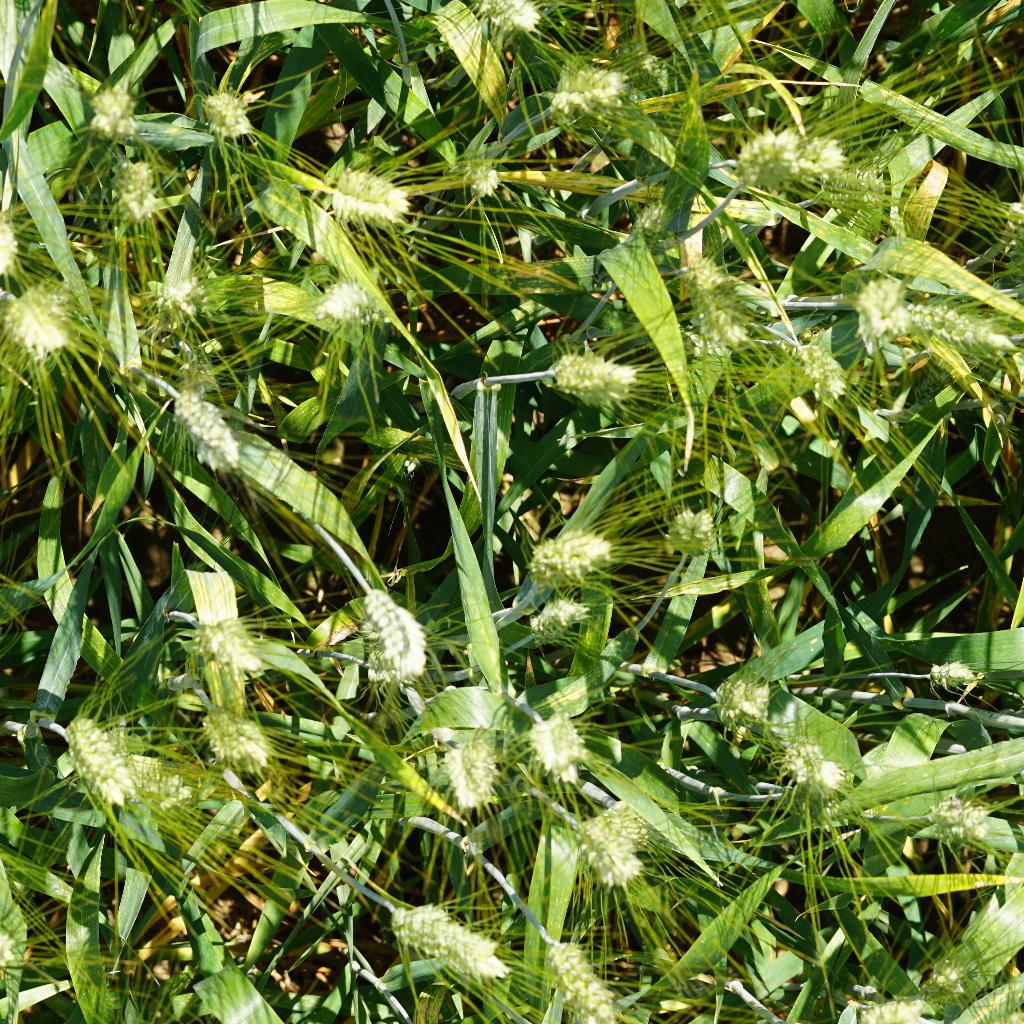0-0: (359, 886, 511, 993), (664, 249, 763, 351), (538, 332, 653, 416), (355, 575, 438, 690), (59, 695, 142, 806), (161, 372, 251, 470), (557, 808, 653, 894), (190, 616, 272, 710), (725, 118, 813, 204), (544, 934, 627, 1024), (817, 137, 901, 218), (765, 727, 854, 802), (204, 707, 303, 774), (911, 301, 1015, 363), (841, 258, 916, 343), (519, 520, 616, 585), (303, 268, 389, 340), (518, 698, 585, 787), (548, 51, 627, 126), (313, 139, 387, 217), (512, 586, 597, 649), (0, 276, 70, 352), (916, 785, 1008, 841), (661, 492, 728, 565), (440, 728, 496, 815), (189, 81, 256, 152), (703, 658, 770, 729), (132, 749, 196, 820), (444, 144, 519, 204), (75, 75, 139, 145), (793, 326, 855, 393), (913, 945, 977, 1006), (154, 269, 215, 332), (458, 0, 549, 40), (600, 40, 672, 90), (112, 161, 169, 221), (857, 986, 939, 1024), (922, 652, 983, 702), (354, 646, 421, 691), (624, 194, 678, 243), (170, 346, 218, 400), (0, 193, 30, 279), (397, 448, 423, 484)
